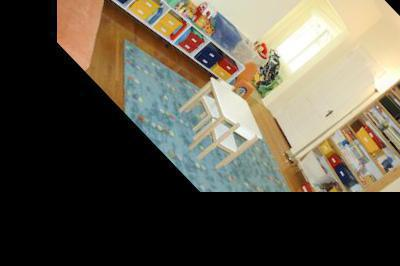Puerta: (275, 43, 384, 150)
